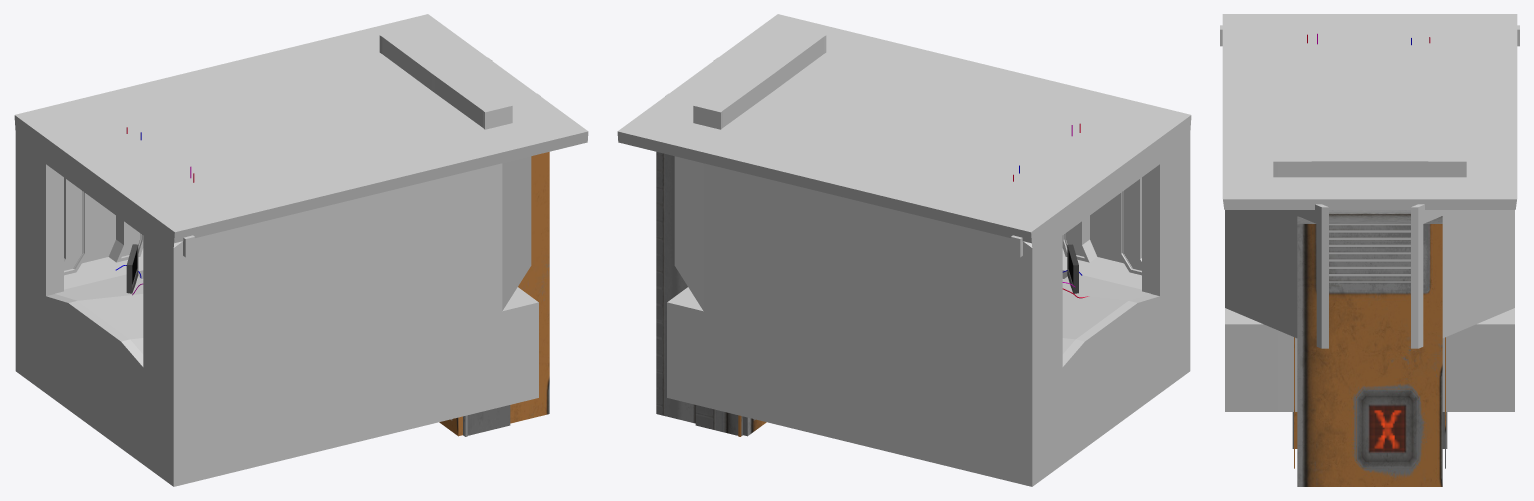
File: Ship Variation.fbx
3 renders of one model, left to right at view 1: azimuth 30°, elevation 25°; view 2: azimuth 150°, elevation 25°; view 3: azimuth 270°, elevation 25°, orthographic. The views are drawn at different scales.
Visible parts, largest first — view 1: Cube, Cube.026, Cube.003; view 2: Cube, Cube.026, Cube.003; view 3: Cube, Cube.026.
Part boxes in pixels (x1,y1,x2,y2): Cube: (14,14,588,486); Cube.026: (439,152,549,436); Cube.003: (64,181,143,278); Cube: (617,14,1191,486); Cube.026: (656,152,766,436); Cube.003: (1062,181,1141,278); Cube: (1220,14,1519,411); Cube.026: (1292,210,1447,486).
Bounding box in the file's own units: 920 × 691 × 620.
23 materials, 2 textured.
